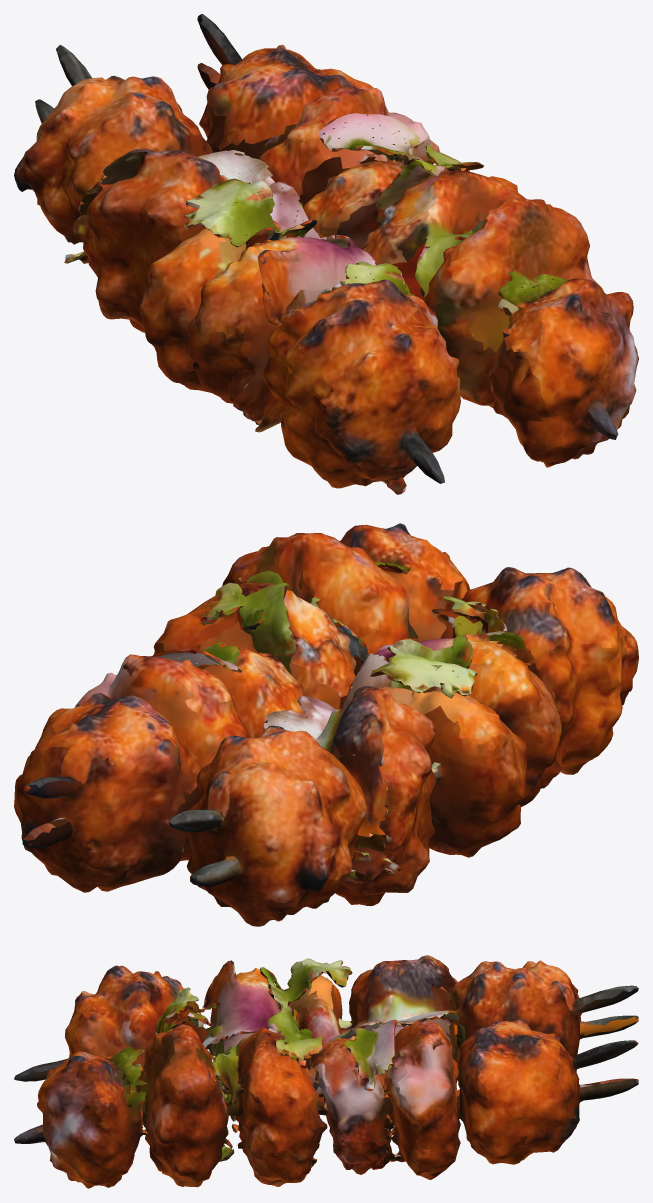
Rendered from 1783074116_tikka 3d model2.glb.
3 renders of one model, top to bottom at view 1: azimuth 30°, elevation 25°; view 2: azimuth 150°, elevation 25°; view 3: azimuth 270°, elevation 25°, orthographic. The views are drawn at different scales.
Parts seen in each view (by area): view 1: tmp7stygnydply; view 2: tmp7stygnydply; view 3: tmp7stygnydply.
Part boxes in pixels (x1,y1,x2,y2): tmp7stygnydply: (14,14,638,494); tmp7stygnydply: (14,523,638,926); tmp7stygnydply: (14,955,638,1188).
Size of the model in its own units: 1.03 by 0.5659 by 1.95.
1 material, 1 textured.
